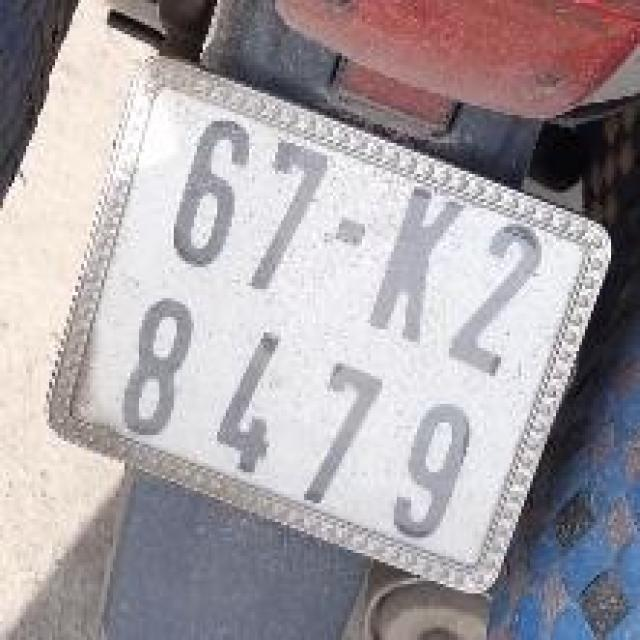2: (438, 208, 564, 382)
4: (201, 316, 309, 481)
6: (160, 104, 271, 283)
7: (225, 130, 343, 311), (283, 347, 392, 514)
8: (108, 285, 215, 448)
9: (375, 386, 484, 556)
K: (358, 172, 481, 355)
